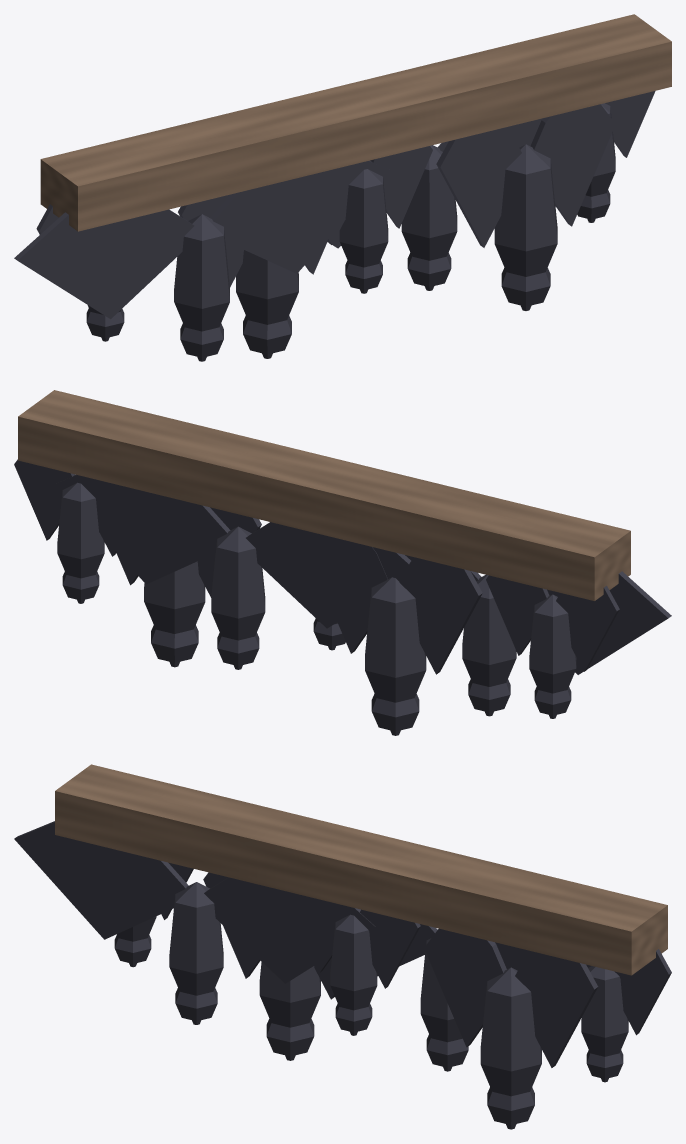
The model's file is vampire-crypt-and-gothic-cathedral-bat-roost-cluster-d9b50168__23034.glb.
The picture shows the model from 3 angles, top to bottom: view 1: azimuth 30°, elevation 25°; view 2: azimuth 150°, elevation 25°; view 3: azimuth 330°, elevation 25°; orthographic projection. The views are drawn at different scales.
Visible parts, largest first — view 1: bat-roost-cluster; view 2: bat-roost-cluster; view 3: bat-roost-cluster.
Boxes of the visible parts, x1,y1,x2,y2 form: bat-roost-cluster: [14, 14, 671, 361]; bat-roost-cluster: [14, 390, 671, 735]; bat-roost-cluster: [14, 764, 671, 1129].
Size of the model in its own units: 2.44 by 0.8601 by 0.3026.
Materials: 2 (1 with a texture image).
